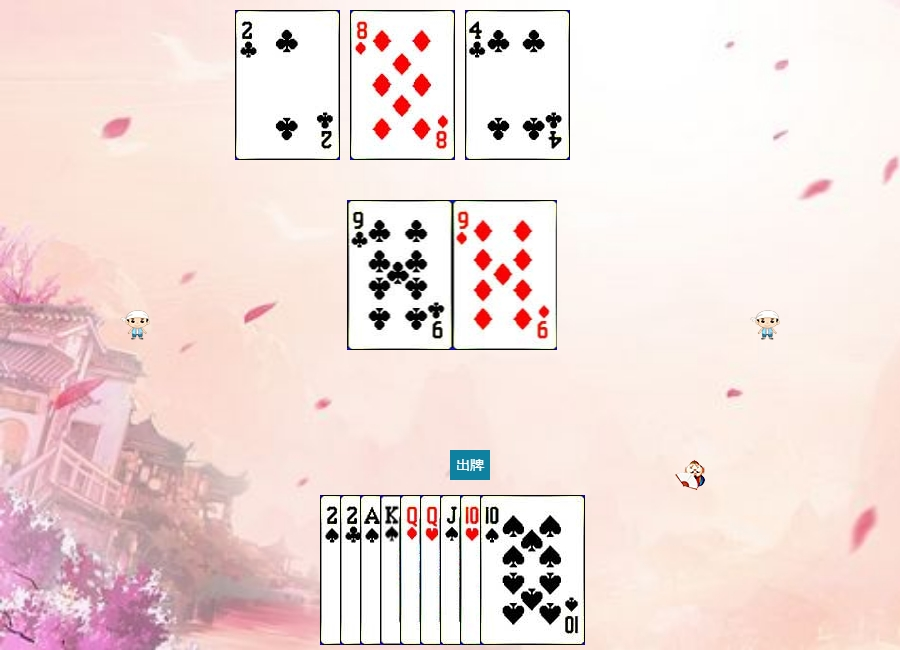10~3: (460, 495, 565, 645)
10~4: (480, 495, 585, 645)
11~4: (440, 495, 545, 645)
12~1: (400, 495, 505, 645)
12~3: (420, 495, 525, 645)
13~4: (380, 495, 485, 645)
14~4: (360, 495, 465, 645)
15~2: (235, 10, 340, 160), (340, 495, 445, 645)
15~4: (320, 495, 425, 645)
4~2: (465, 10, 570, 160)
8~1: (350, 10, 455, 160)
9~1: (453, 200, 558, 350)
9~2: (348, 200, 453, 350)
